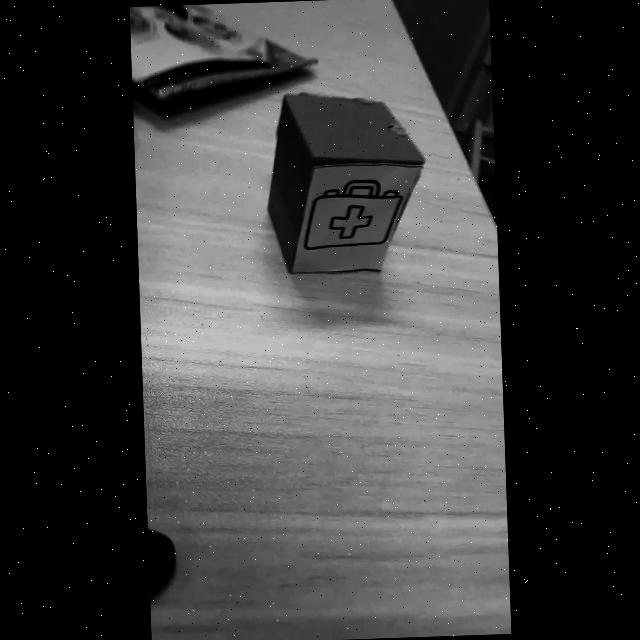Medkit: (303, 179, 401, 249)
